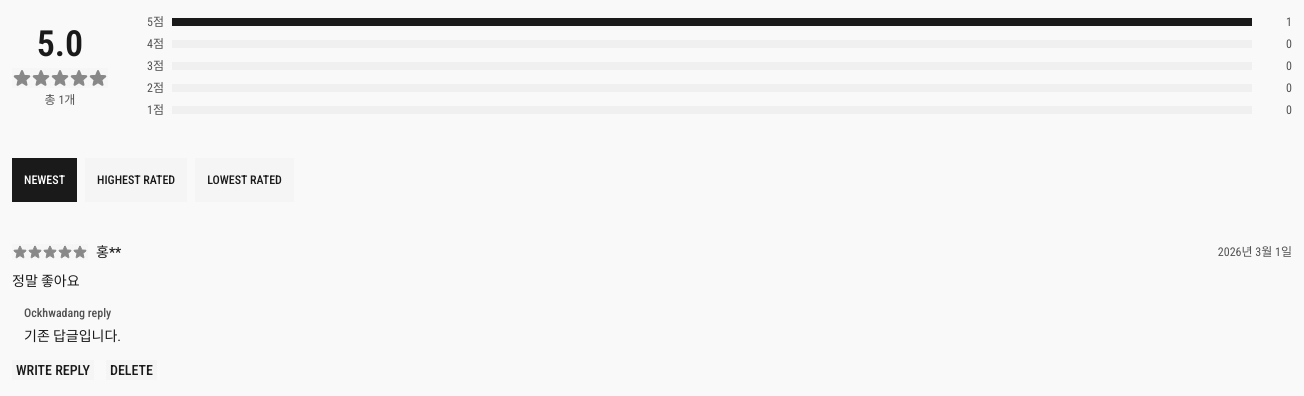
Test: ReviewList › lets admins delete an existing product-review reply inline
expect the text "기존 답글입니다." is shown: met, box [24, 328, 121, 344]
Click the button "Delete".
click(132, 370)  # box [106, 360, 157, 380]
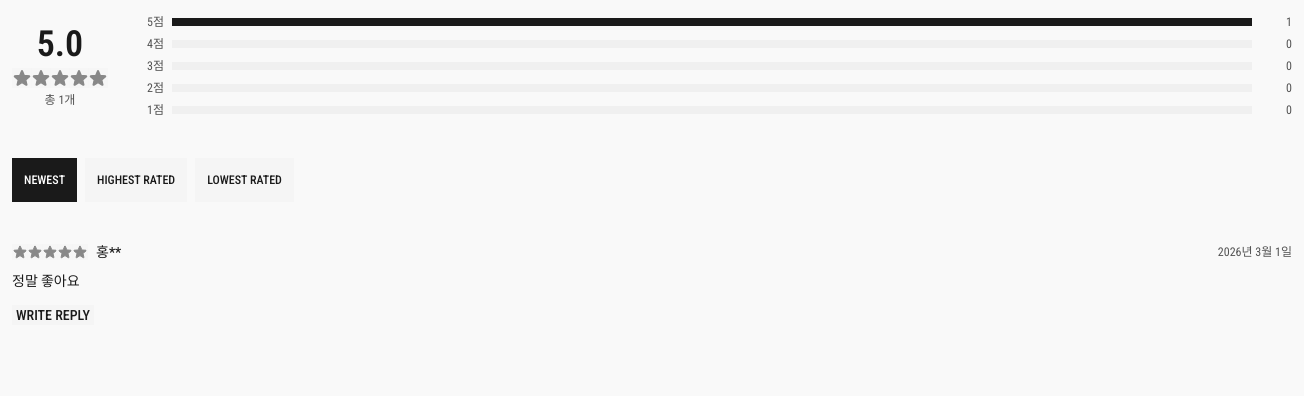
expect the text "기존 답글입니다." is gone: met
expect the button "Delete" is gone: met
